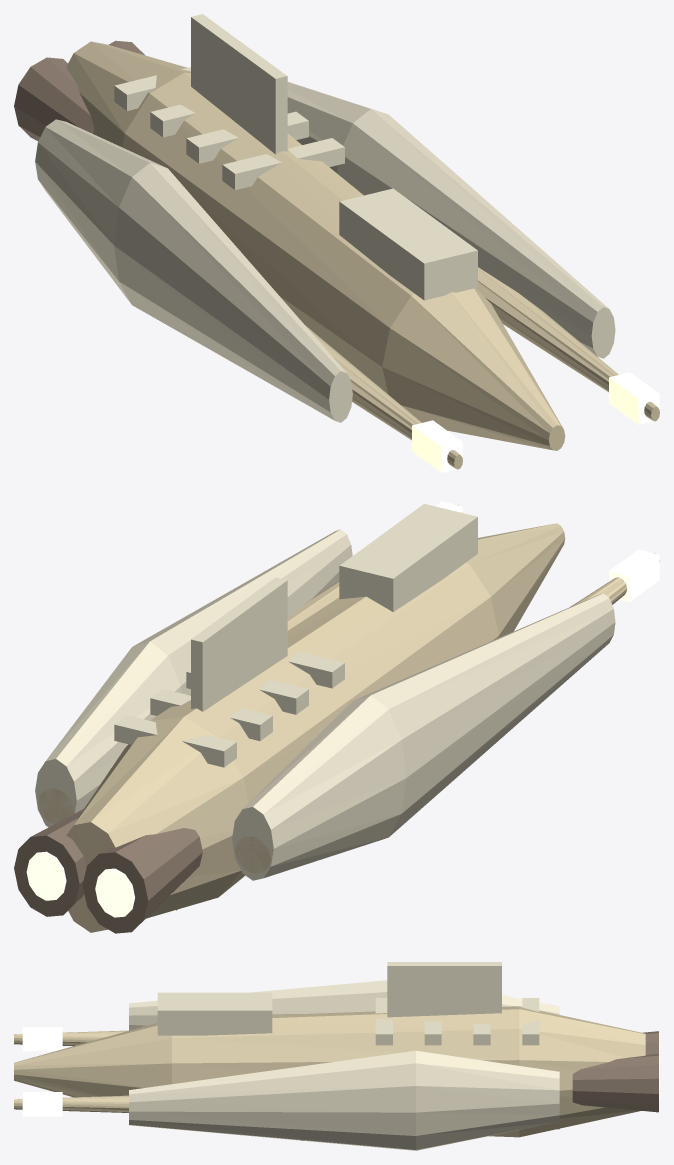
3 views of the same model, one above another, from view 1: azimuth 30°, elevation 25°; view 2: azimuth 150°, elevation 25°; view 3: azimuth 270°, elevation 25° (orthographic). The views are drawn at different scales.
Bounding box in the file's own units: 1.71 × 1.4 × 4.82.
